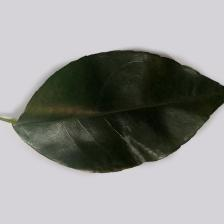healthy: (37, 71, 187, 167)
